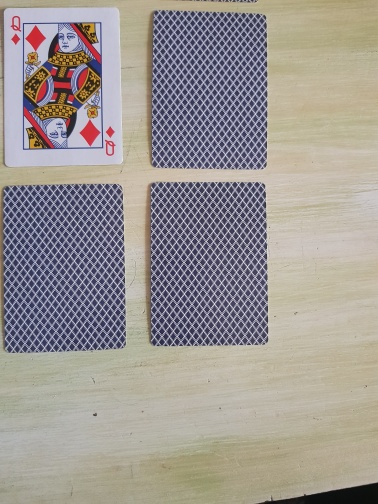queen: (3, 7, 124, 168)
